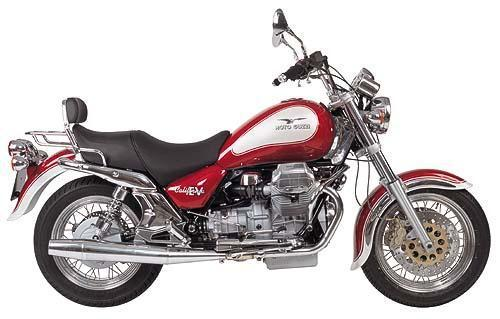motorcycle: (1, 7, 500, 319)
